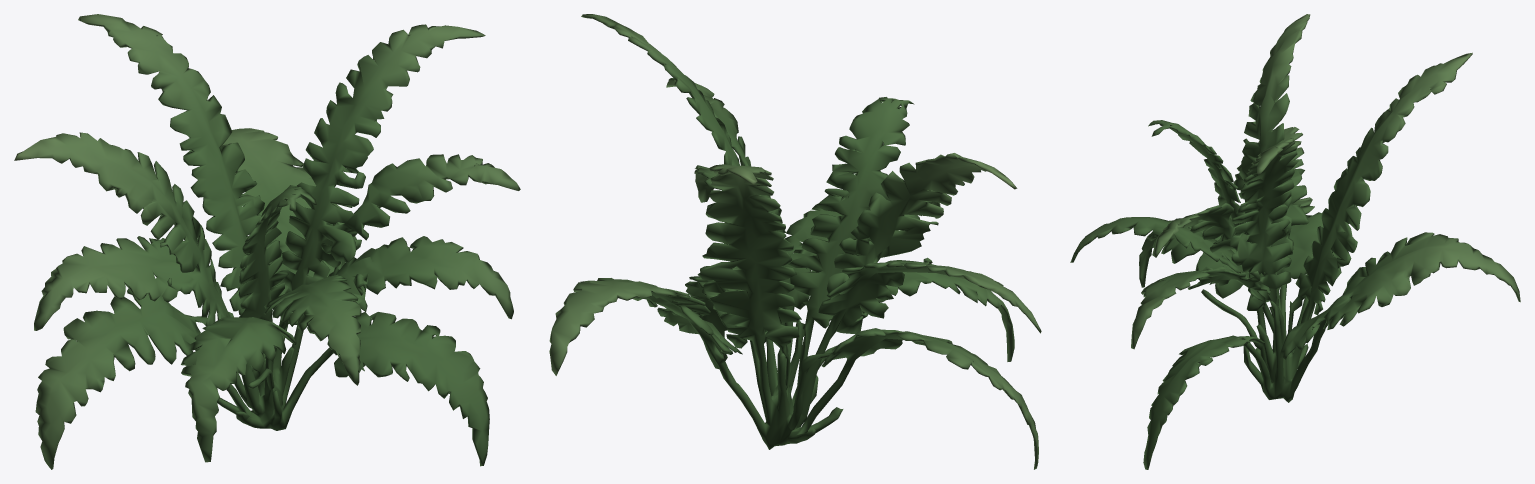
File: fern.glb
The picture shows the model from 3 angles, left to right: view 1: azimuth 30°, elevation 25°; view 2: azimuth 150°, elevation 25°; view 3: azimuth 270°, elevation 25°; orthographic projection. The views are drawn at different scales.
Visible parts, largest first — view 1: geometry_0; view 2: geometry_0; view 3: geometry_0.
Part boxes in pixels (x1,y1,x2,y2): geometry_0: (14, 14, 520, 469); geometry_0: (549, 14, 1041, 469); geometry_0: (1070, 14, 1520, 469).
Bounding box in the file's own units: 2.46 × 2 × 2.44.
